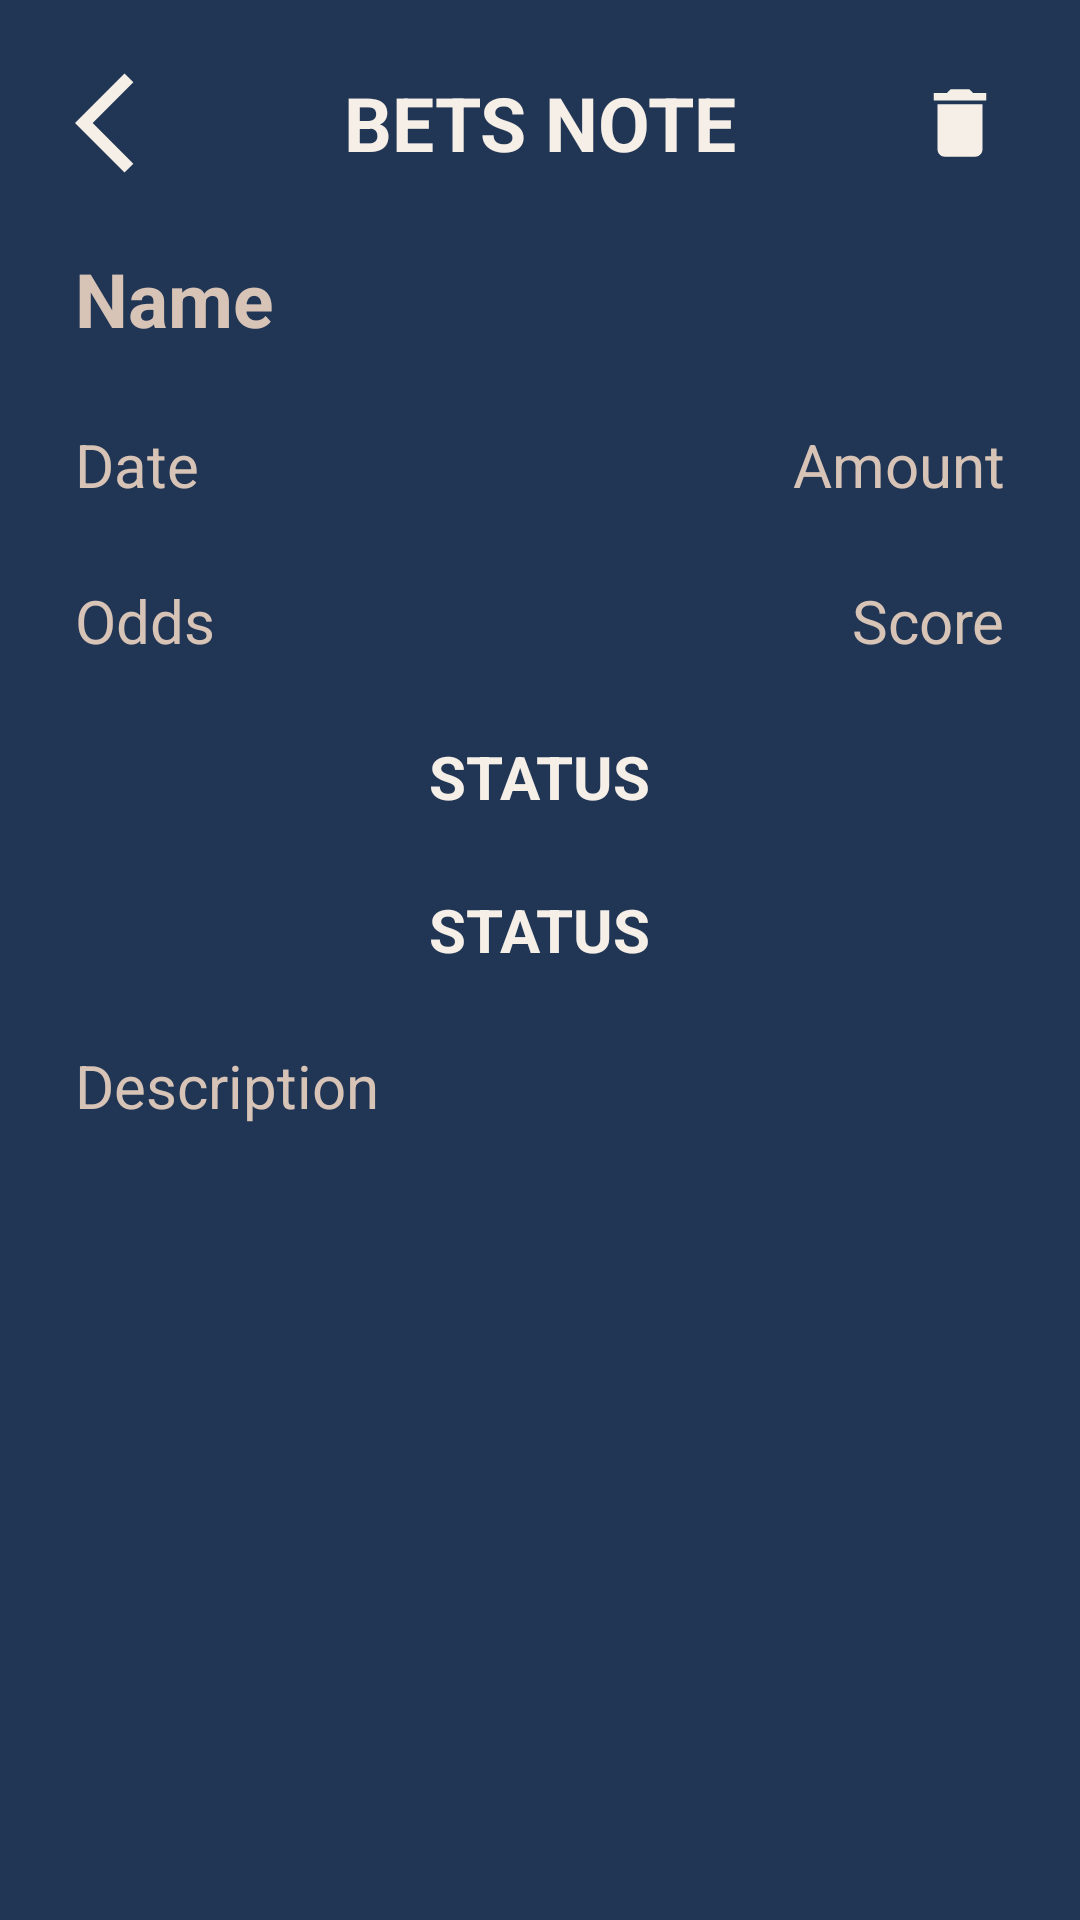

Named icons in this screenshot (1080×1920) and their centers, (x,y):
arrow back: (104,123)
delete: (960,123)
